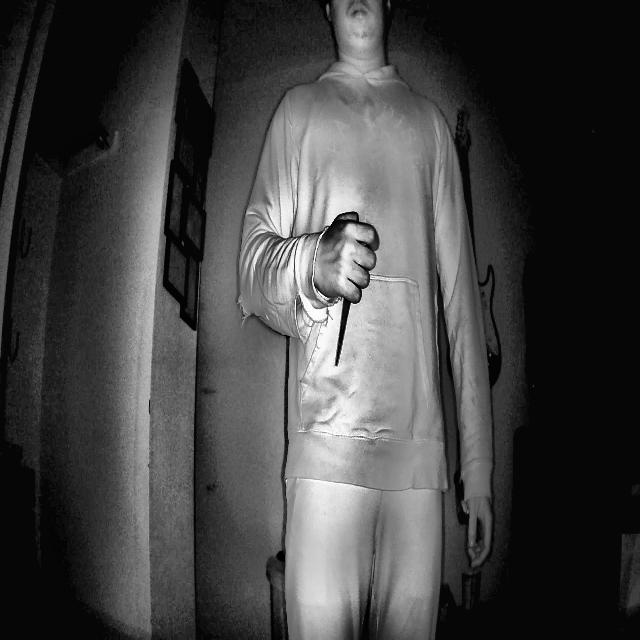scissors: (317, 199, 380, 396)
